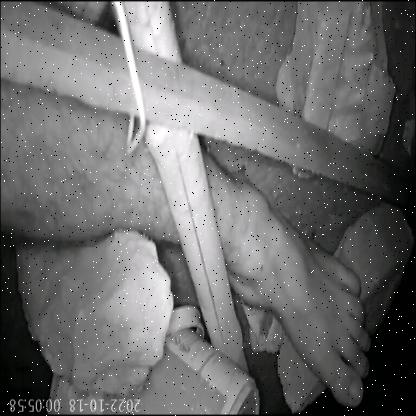leg: (184, 143, 416, 415)
